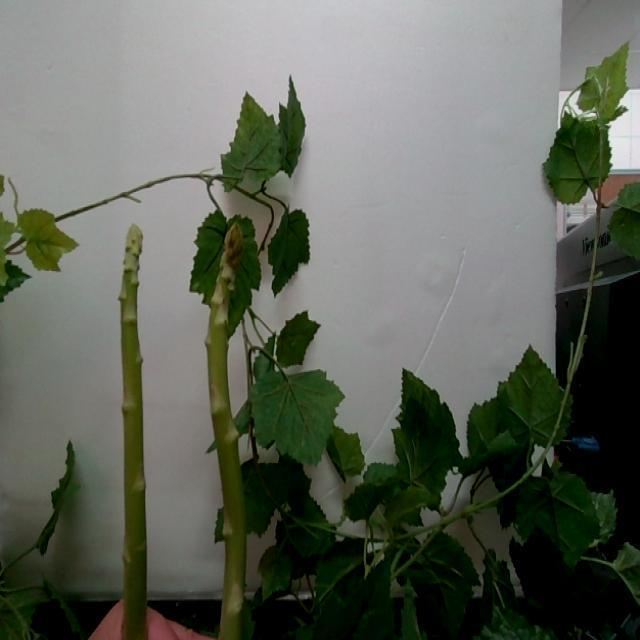aspargus: (205, 220, 247, 640), (120, 228, 148, 640)
